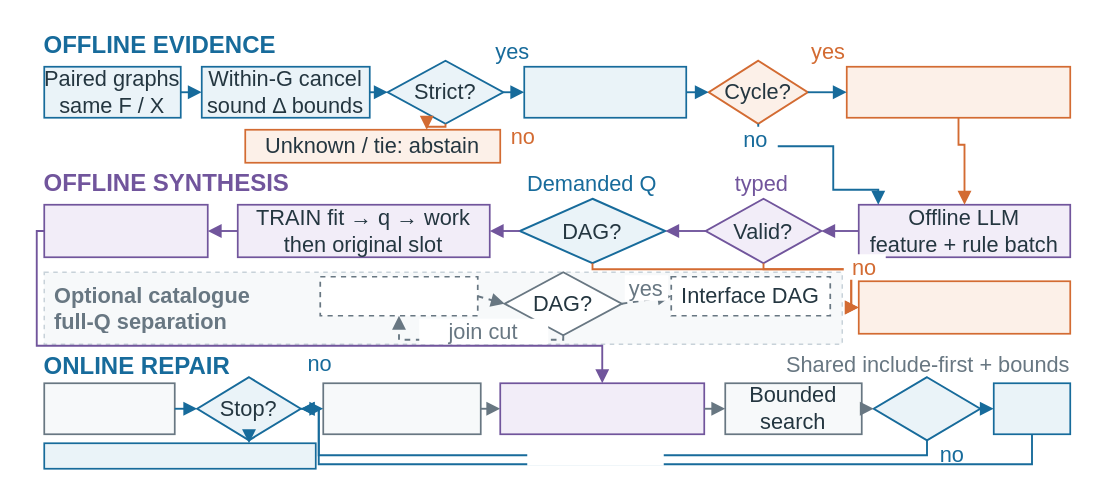
Some shapes in this 1109 by 503 pixel diagram are drawn without their labels. The shapes that lost their labels are listed below. From the top down, each one's box as (x1, y1, x2, y2) in pixels, then its label:
(523, 65, 686, 118): Exact quotient all strict labels
(845, 65, 1070, 118): Concrete arcs + equality joins
(43, 203, 208, 257): Freeze program P
(319, 275, 478, 316): Exact master
(857, 280, 1070, 334): Reject slot keep record
(43, 382, 175, 434): Common incumbent I
(322, 382, 481, 434): Shared patch R′
(499, 382, 704, 434): Frozen priority greedy + pivot
(872, 376, 981, 441): Δ > 0?
(992, 382, 1070, 434): Commit I
(43, 442, 316, 469): Cap / end: return I
(526, 440, 663, 465): next patch
